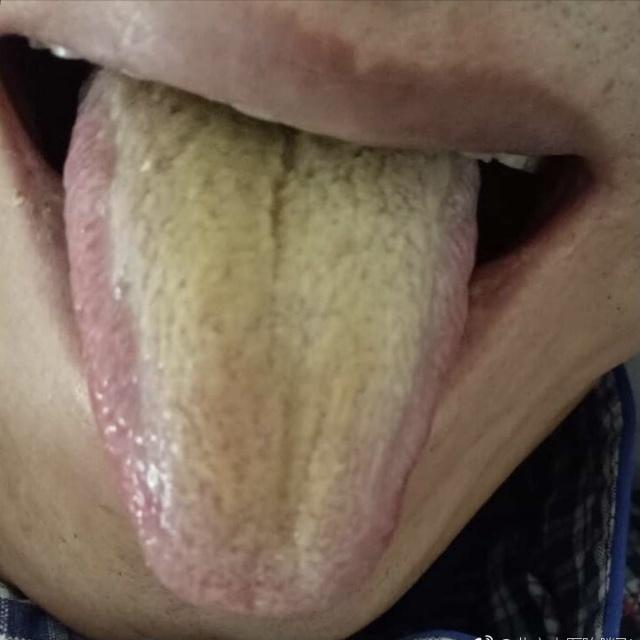huangtaishe: (62, 77, 479, 620)
